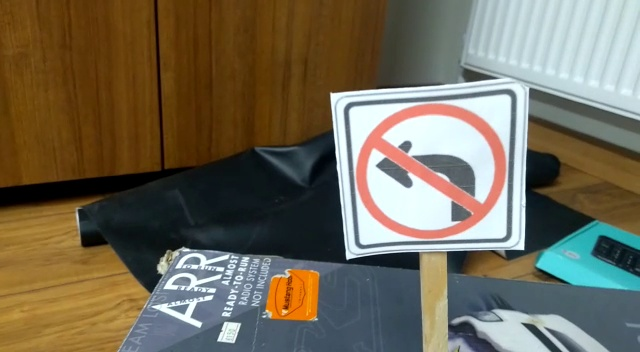sola_donulmez: (351, 86, 519, 249)
